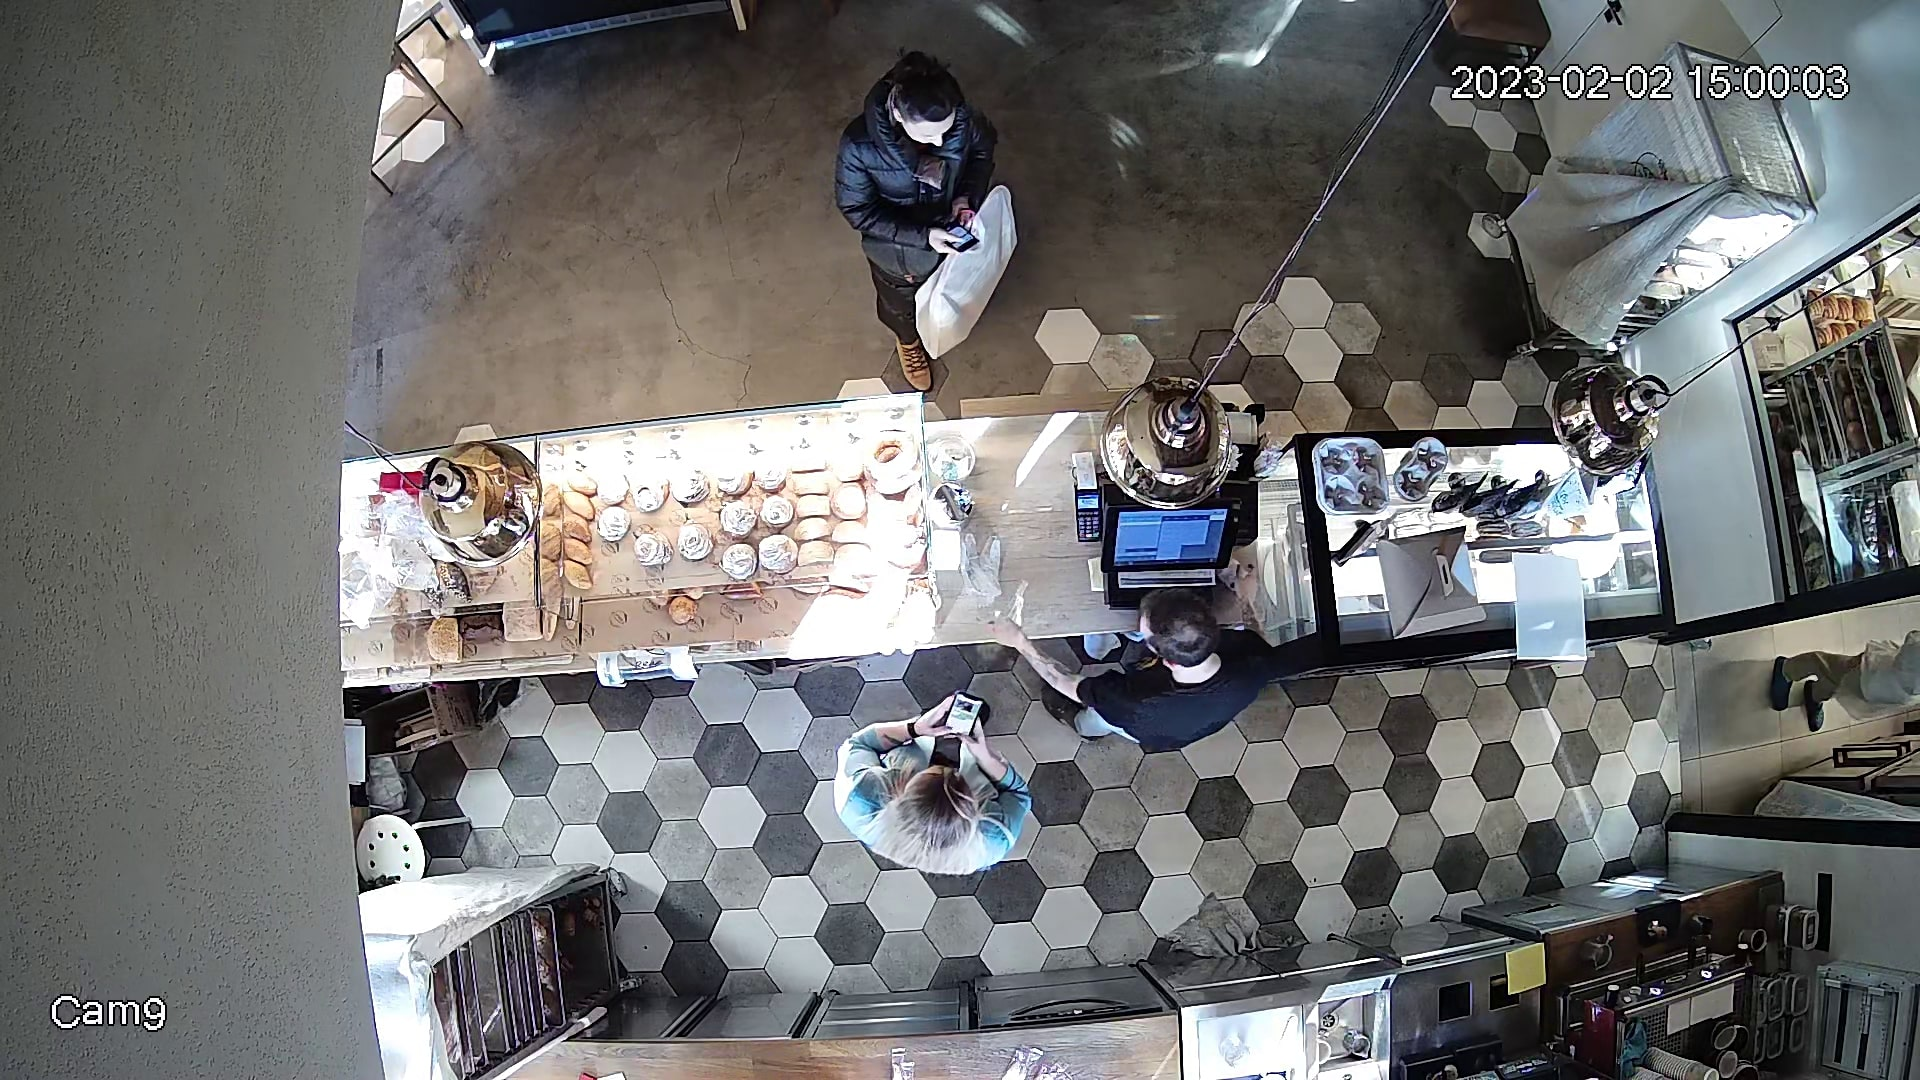barcounter: (359, 421, 1682, 691)
person: (810, 42, 1017, 398), (1032, 583, 1276, 759), (819, 712, 1039, 875)
